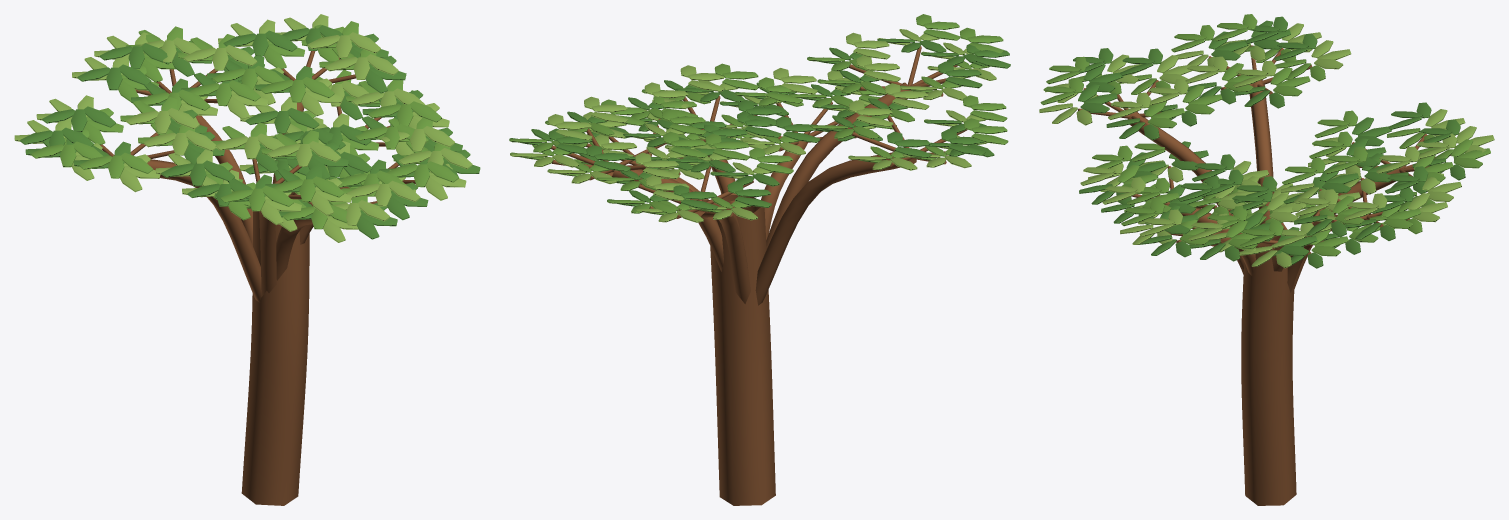
File: LV_CAY_TAN_RONG_01.glb
The picture shows the model from 3 angles, left to right: view 1: azimuth 30°, elevation 25°; view 2: azimuth 150°, elevation 25°; view 3: azimuth 270°, elevation 25°; orthographic projection. The views are drawn at different scales.
Visible parts, largest first — view 1: branches-and-leaves-surface-88ad51, branches-and-leaves-surface-6b9c41, branches-and-leaves-surface-53873a, LV_CAY_TAN_RONG_01-surface-825331, branches-and-leaves-surface-825331; view 2: branches-and-leaves-surface-88ad51, branches-and-leaves-surface-53873a, branches-and-leaves-surface-6b9c41, LV_CAY_TAN_RONG_01-surface-825331, branches-and-leaves-surface-825331; view 3: branches-and-leaves-surface-53873a, branches-and-leaves-surface-6b9c41, branches-and-leaves-surface-88ad51, LV_CAY_TAN_RONG_01-surface-825331, branches-and-leaves-surface-825331.
Boxes of the visible parts, x1,y1,x2,y2 form: branches-and-leaves-surface-88ad51: (14, 14, 472, 242); branches-and-leaves-surface-6b9c41: (31, 21, 458, 229); branches-and-leaves-surface-53873a: (20, 25, 480, 239); LV_CAY_TAN_RONG_01-surface-825331: (241, 192, 309, 505); branches-and-leaves-surface-825331: (100, 51, 415, 302); branches-and-leaves-surface-88ad51: (510, 29, 996, 222); branches-and-leaves-surface-53873a: (509, 38, 1010, 210); branches-and-leaves-surface-6b9c41: (509, 14, 1008, 215); LV_CAY_TAN_RONG_01-surface-825331: (710, 195, 775, 505); branches-and-leaves-surface-825331: (551, 46, 970, 305); branches-and-leaves-surface-53873a: (1073, 16, 1465, 268); branches-and-leaves-surface-6b9c41: (1040, 14, 1490, 256); branches-and-leaves-surface-88ad51: (1039, 23, 1494, 268); LV_CAY_TAN_RONG_01-surface-825331: (1241, 235, 1296, 505); branches-and-leaves-surface-825331: (1078, 45, 1451, 292).
Bounding box in the file's own units: 5.57 × 5.17 × 5.67.
